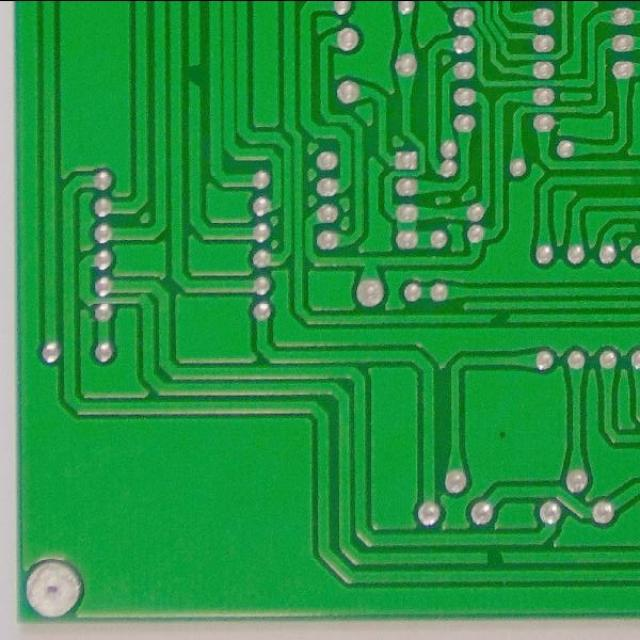Open_Circuit: (181, 51, 207, 96), (475, 544, 513, 570), (482, 307, 520, 328), (627, 214, 640, 237)
